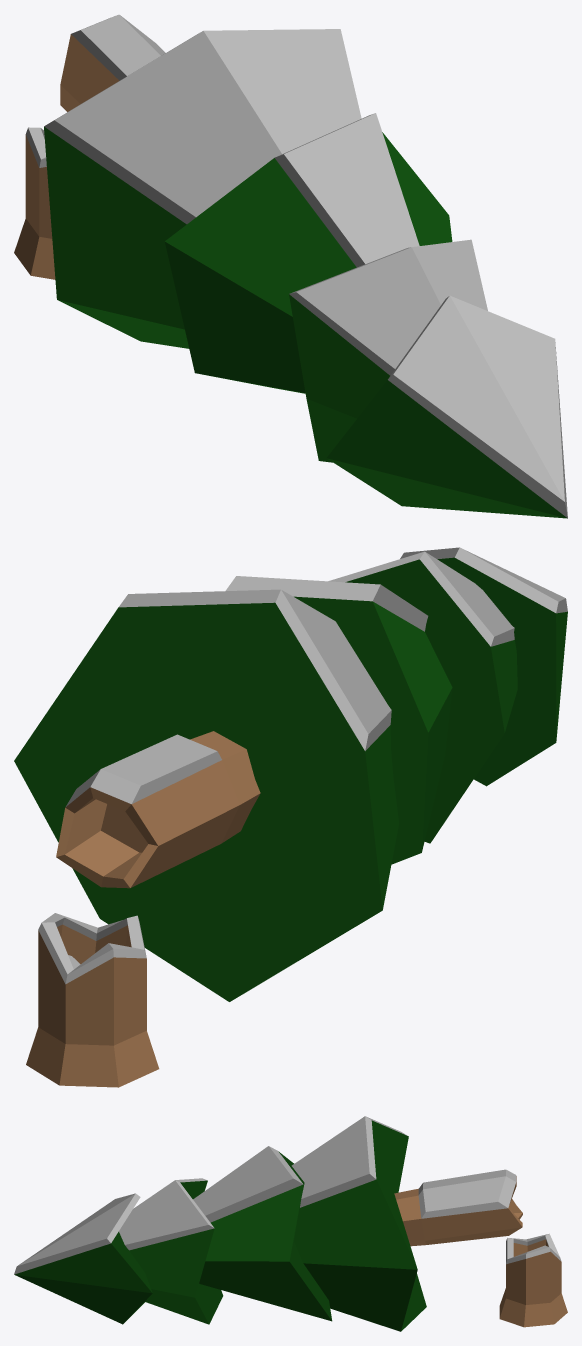
The model's file is Fir_1 Winter Broken.fbx.
The picture shows the model from 3 angles, top to bottom: view 1: azimuth 30°, elevation 25°; view 2: azimuth 150°, elevation 25°; view 3: azimuth 270°, elevation 25°; orthographic projection. The views are drawn at different scales.
Parts seen in each view (by area): view 1: FirBrokenWinter_mesh; view 2: FirBrokenWinter_mesh; view 3: FirBrokenWinter_mesh.
Part boxes in pixels (<box>): FirBrokenWinter_mesh: <box>14,14,567,518</box>; FirBrokenWinter_mesh: <box>14,547,567,1087</box>; FirBrokenWinter_mesh: <box>14,1116,567,1331</box>.
Bounding box in the file's own units: 255 × 260 × 678.
